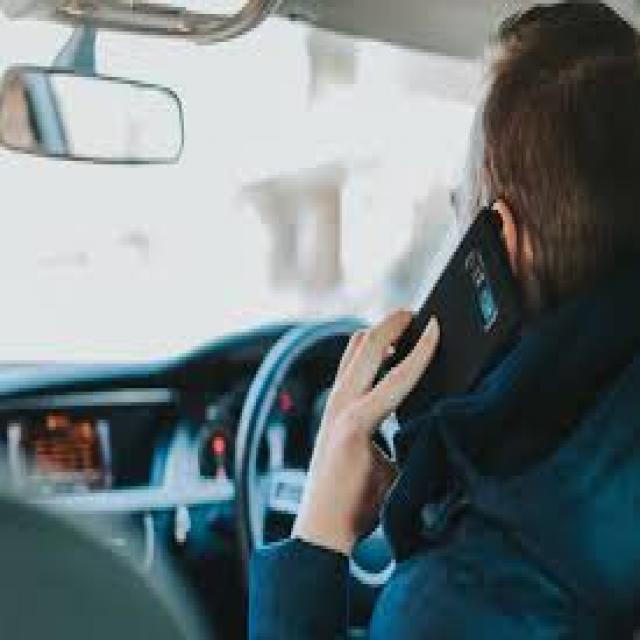Cellphone_calling: (330, 171, 522, 500)
